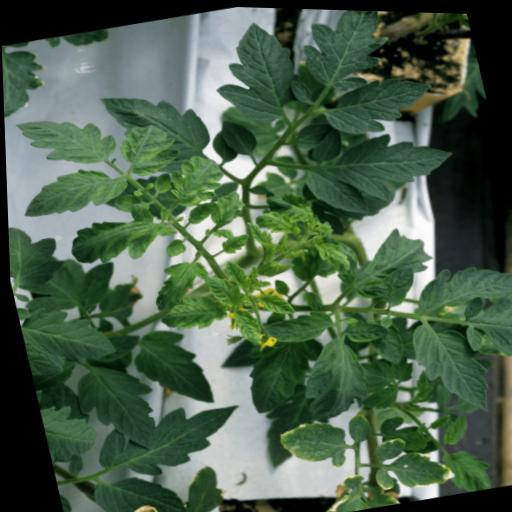Healthy: (294, 116, 465, 224), (85, 391, 251, 487), (201, 10, 310, 131), (98, 77, 219, 184), (65, 354, 165, 461), (316, 65, 442, 141), (292, 7, 398, 94), (14, 292, 118, 380), (125, 320, 214, 414), (85, 463, 187, 512), (6, 217, 69, 292), (36, 397, 101, 464), (217, 113, 258, 157), (302, 122, 345, 162), (289, 117, 336, 151), (59, 499, 142, 512)
Yellow Leaf Curl Virus: (404, 307, 495, 422), (60, 194, 178, 271), (287, 329, 373, 423), (12, 104, 120, 177), (14, 157, 131, 222), (343, 216, 439, 294), (410, 245, 512, 313), (236, 335, 317, 415), (455, 281, 512, 366), (114, 117, 183, 180), (162, 148, 229, 209), (145, 254, 214, 311), (254, 302, 335, 350), (153, 287, 231, 335), (435, 440, 495, 494), (241, 212, 283, 261), (202, 268, 247, 310), (340, 310, 391, 343), (205, 187, 248, 226), (312, 237, 350, 275), (432, 410, 472, 446), (229, 305, 263, 347), (251, 204, 297, 235), (253, 285, 294, 318), (222, 254, 252, 291), (216, 229, 251, 256), (182, 199, 216, 224)
